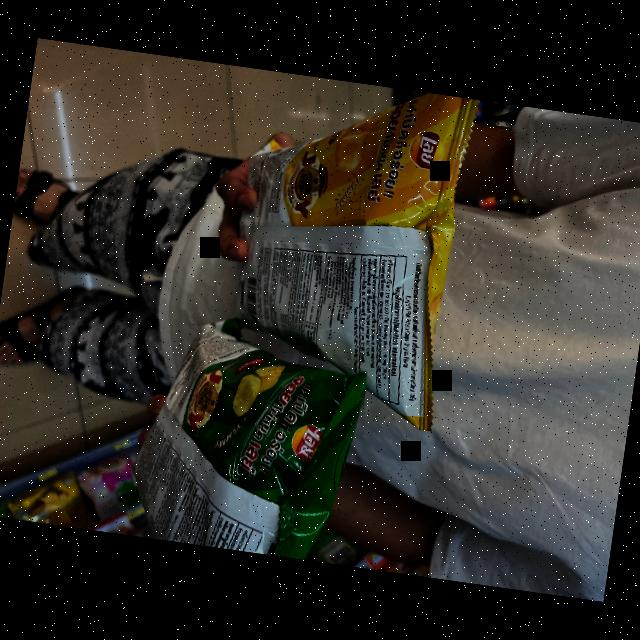snack_bag: (214, 70, 493, 432), (108, 319, 382, 566)
